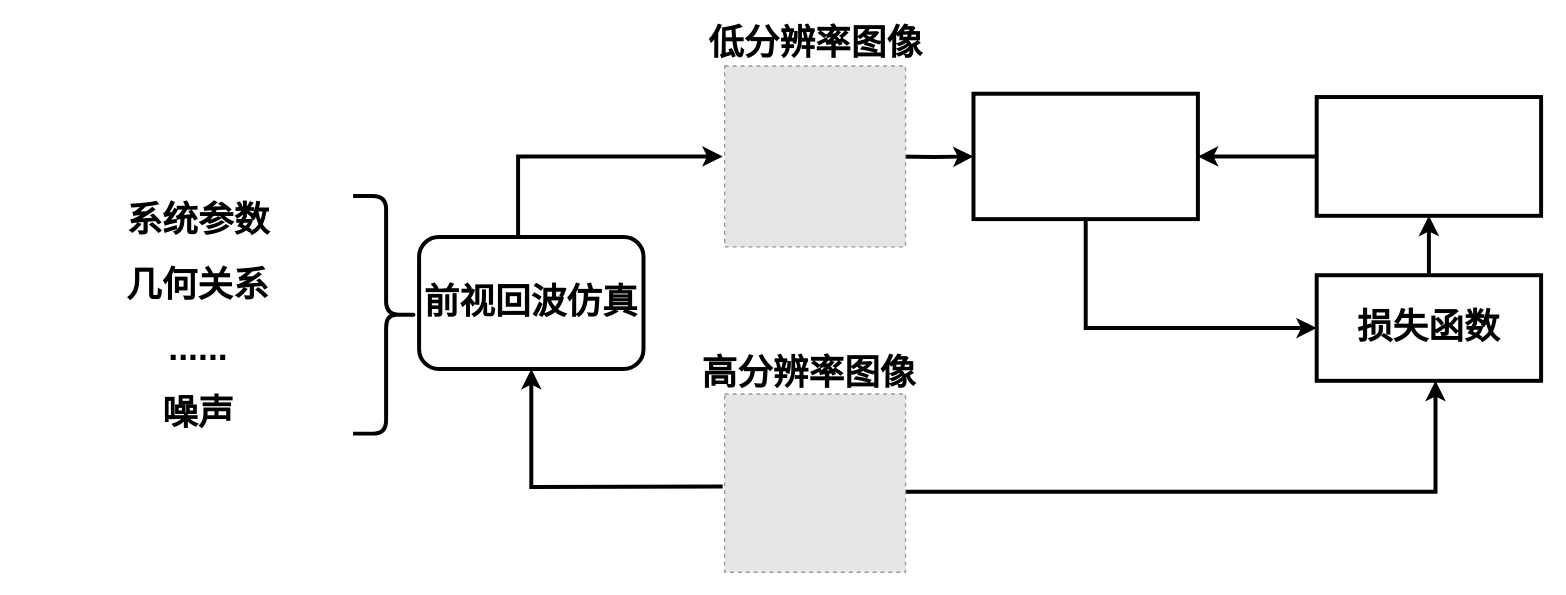
Image size: 1566x595. Some labels were removed from this diagram. Grey dashed boxes stand in for pictures. Each missing label, with the centre of its shape:
"更新网络参数" belongs at point (1428, 155).
"深度神经网络" belongs at point (1085, 155).
